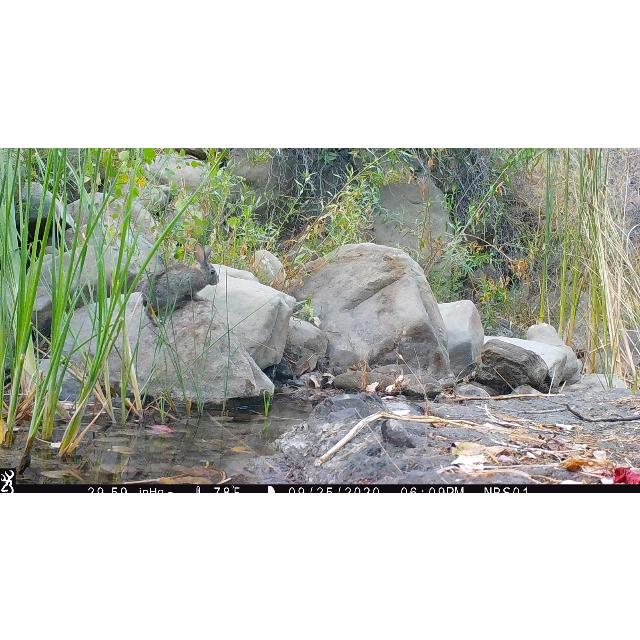animals: (140, 241, 220, 327)
